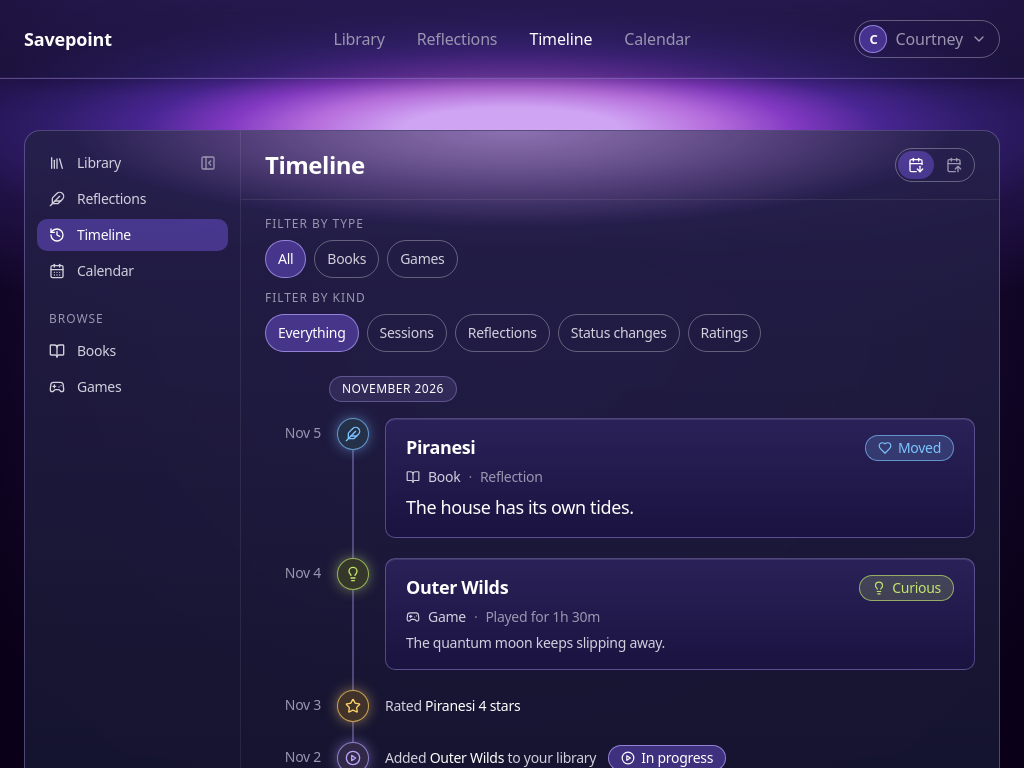
Test: TimelinePage › filters › combines both, and says when nothing matches, with a way to clear them
Later steps or results of the test are not shown.
Expected: the heading "November 2026" is shown, [329,376,457,402]
Click the button "Games": click(422, 259) [387,240,458,278]
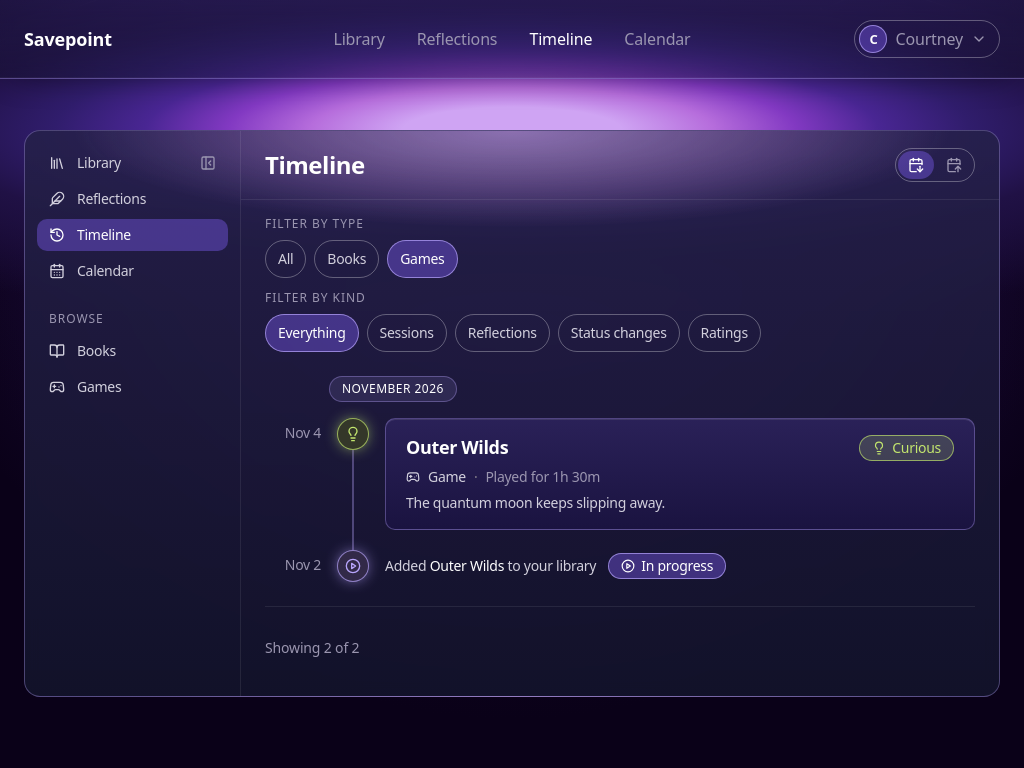
Click the button "Ratings": click(724, 333) [688,314,761,352]
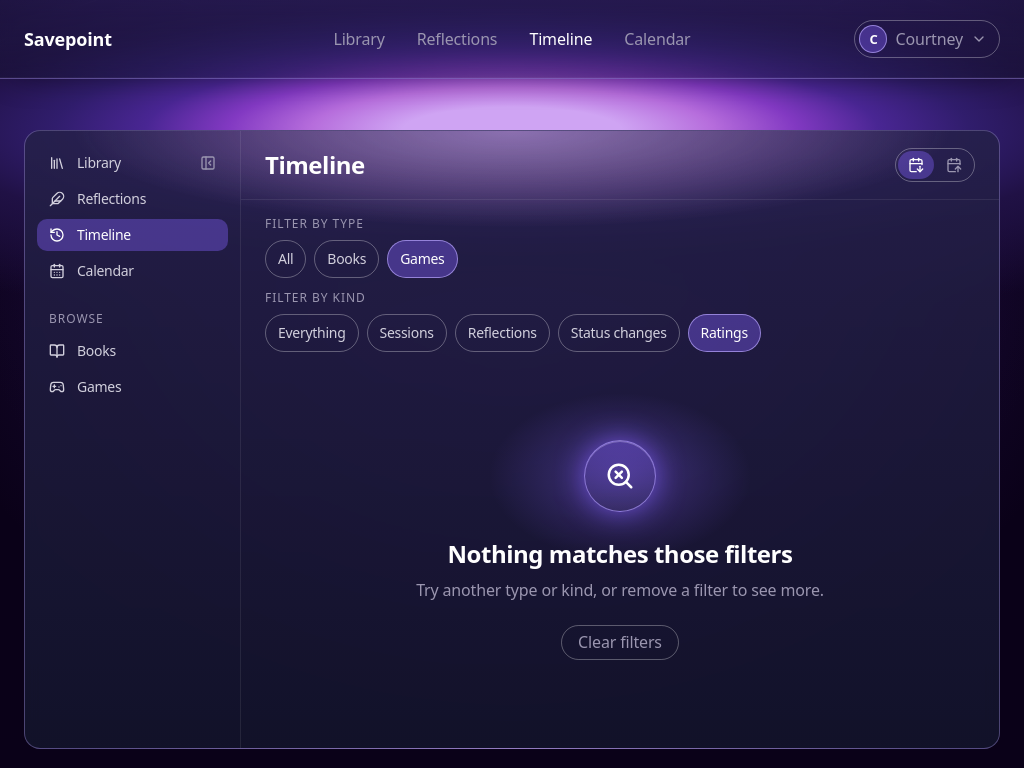
Now the heading "Nothing matches those filters" is shown, box [448,536,792,572]
